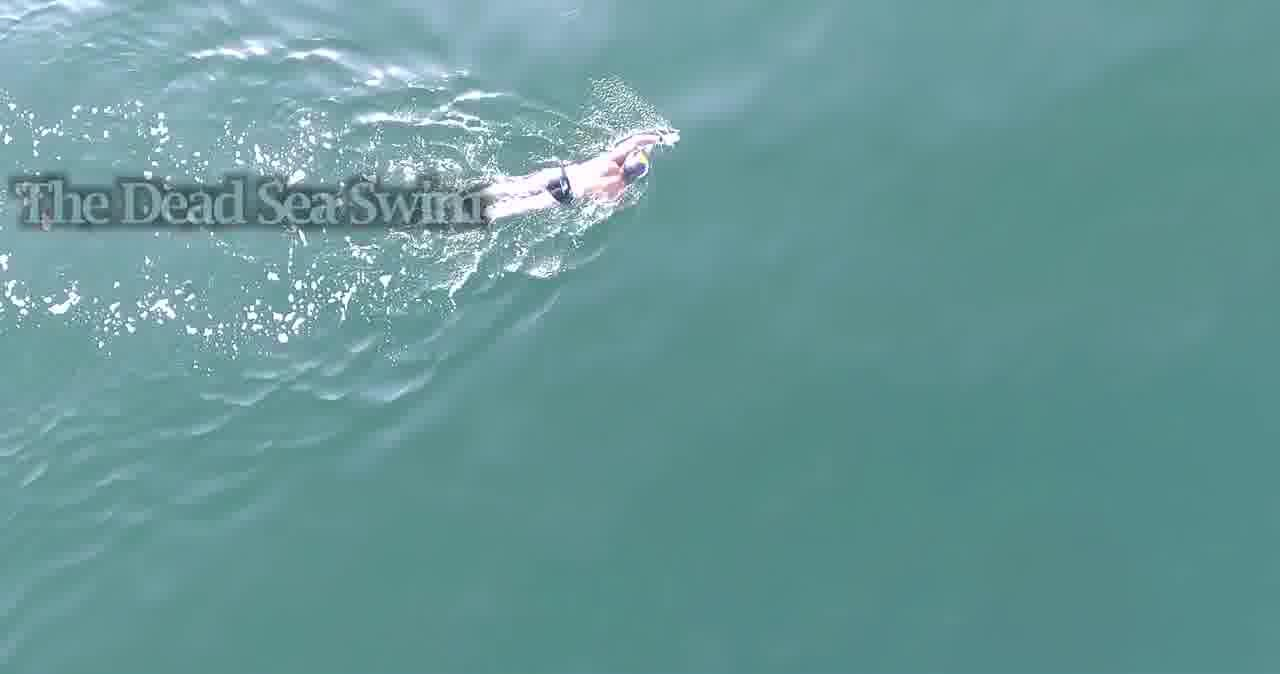swimmer: (490, 128, 682, 223)
